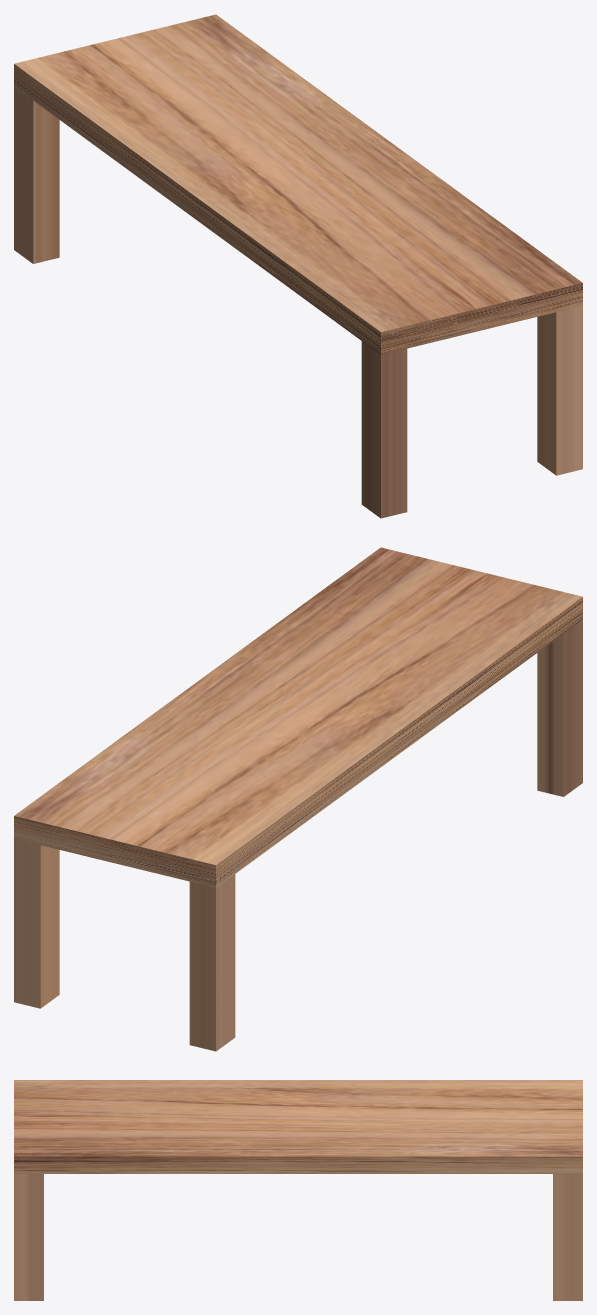
Rendered from table.fbx.
The picture shows the model from 3 angles, top to bottom: view 1: azimuth 30°, elevation 25°; view 2: azimuth 150°, elevation 25°; view 3: azimuth 270°, elevation 25°; orthographic projection. The views are drawn at different scales.
Visible parts, largest first — view 1: Cube; view 2: Cube; view 3: Cube.
Part boxes in pixels (x1,y1,x2,y2): Cube: (14, 14, 582, 518); Cube: (14, 547, 582, 1051); Cube: (14, 1080, 582, 1300).
Bounding box in the file's own units: 326 × 287 × 1025.
